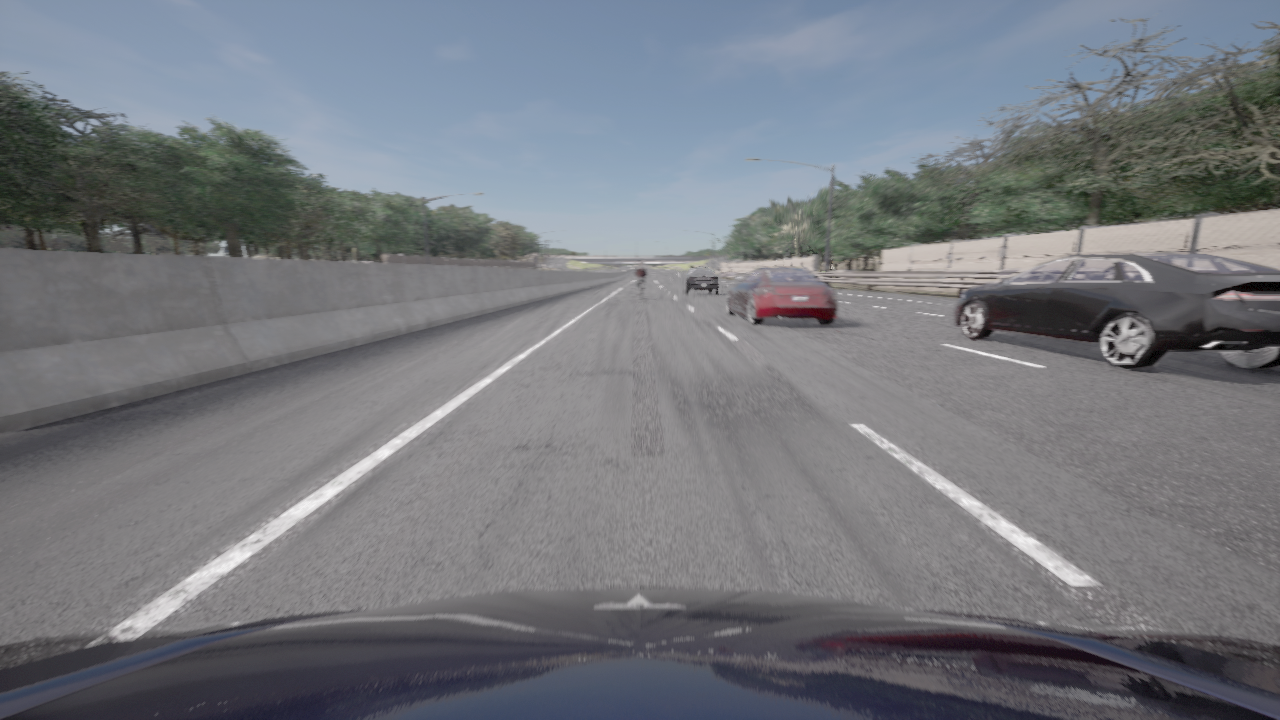cyclist: (0, 588, 1279, 719), (955, 251, 1279, 369), (725, 267, 837, 325), (681, 266, 719, 295), (801, 268, 820, 281), (638, 282, 644, 299)
